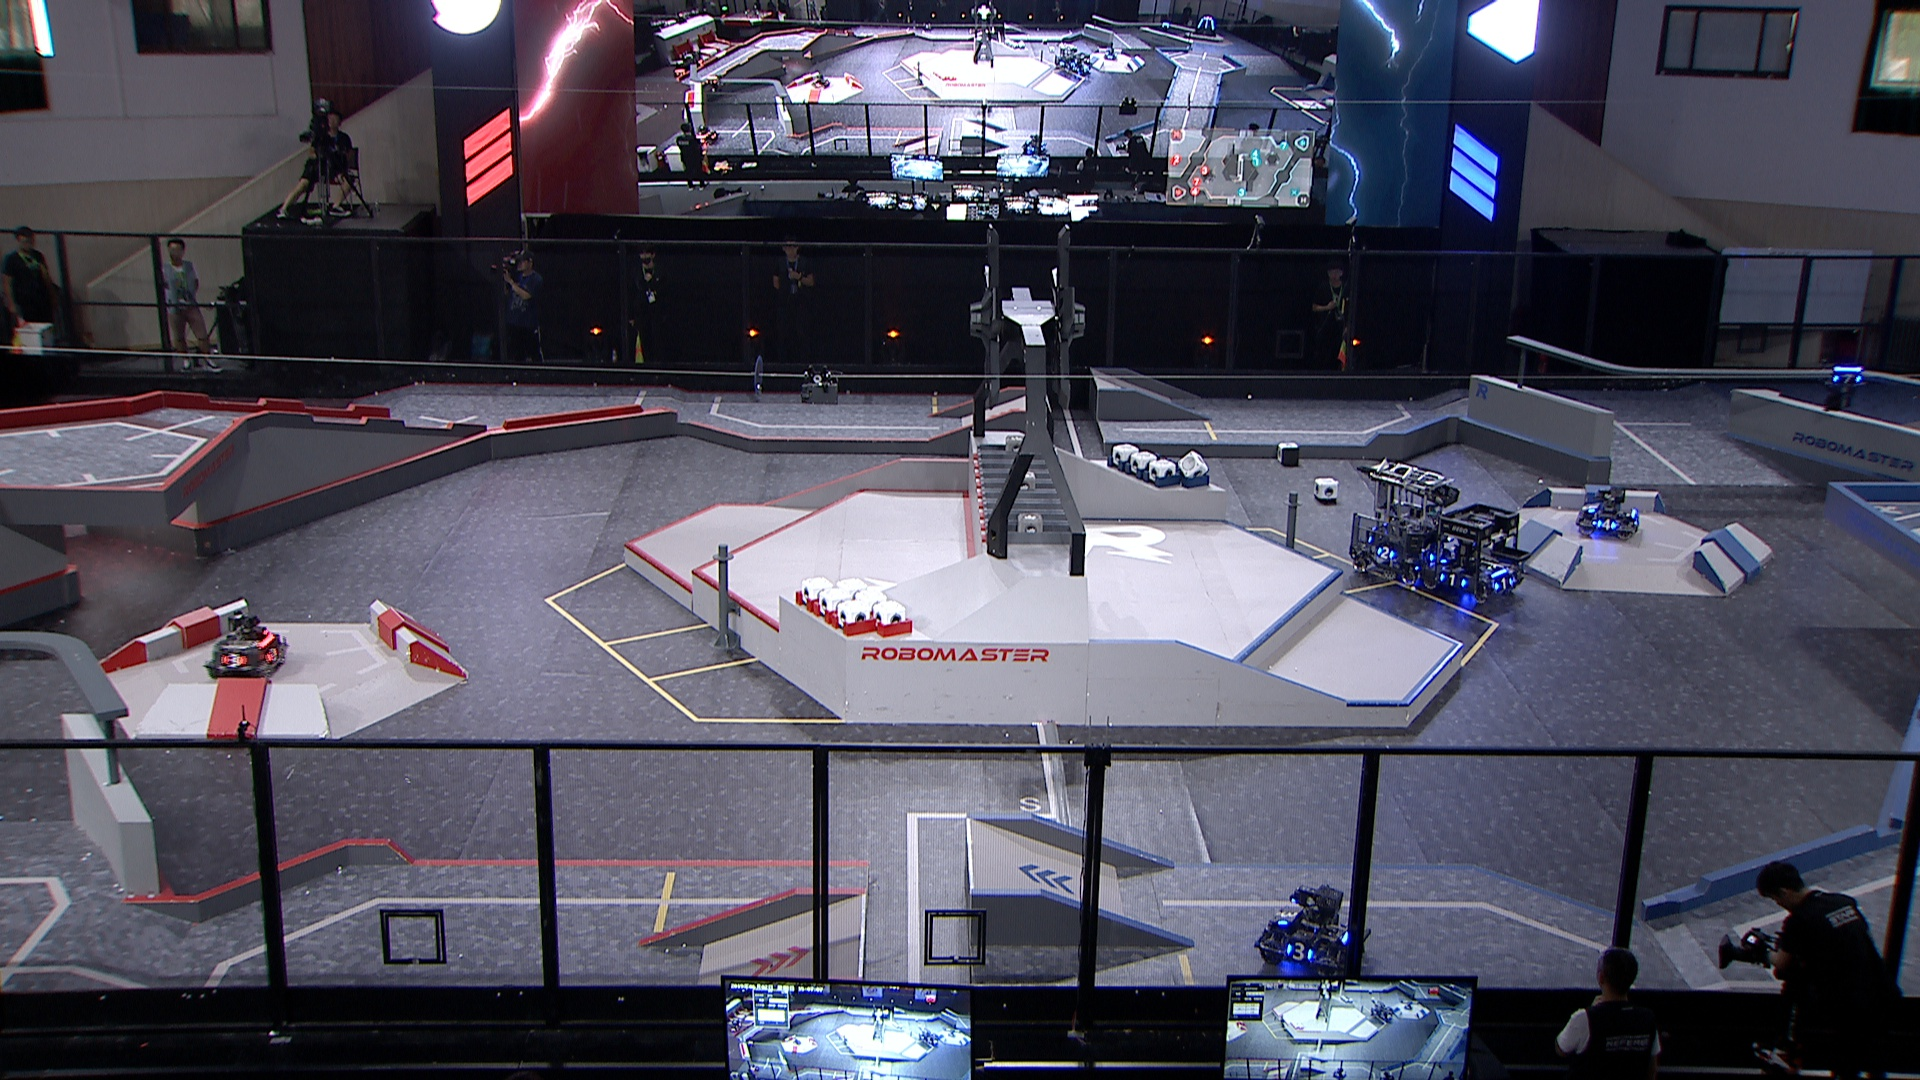armor: (1284, 942, 1313, 963), (1439, 571, 1466, 589), (222, 651, 247, 670), (1832, 372, 1863, 386), (1276, 907, 1299, 927), (1373, 545, 1396, 562), (1493, 576, 1515, 593), (264, 645, 280, 665), (1596, 518, 1617, 531), (1585, 501, 1598, 513)
car: (1346, 458, 1458, 585), (1249, 880, 1371, 982), (1420, 502, 1528, 607), (202, 611, 289, 680), (1575, 484, 1640, 543)
ignore: (1021, 131, 1048, 156), (1051, 44, 1077, 69), (673, 53, 700, 76), (1065, 51, 1091, 76), (1193, 15, 1218, 38), (692, 123, 719, 144), (808, 73, 832, 90), (703, 74, 721, 91), (1102, 46, 1120, 62)
watcher: (1817, 361, 1865, 411)
